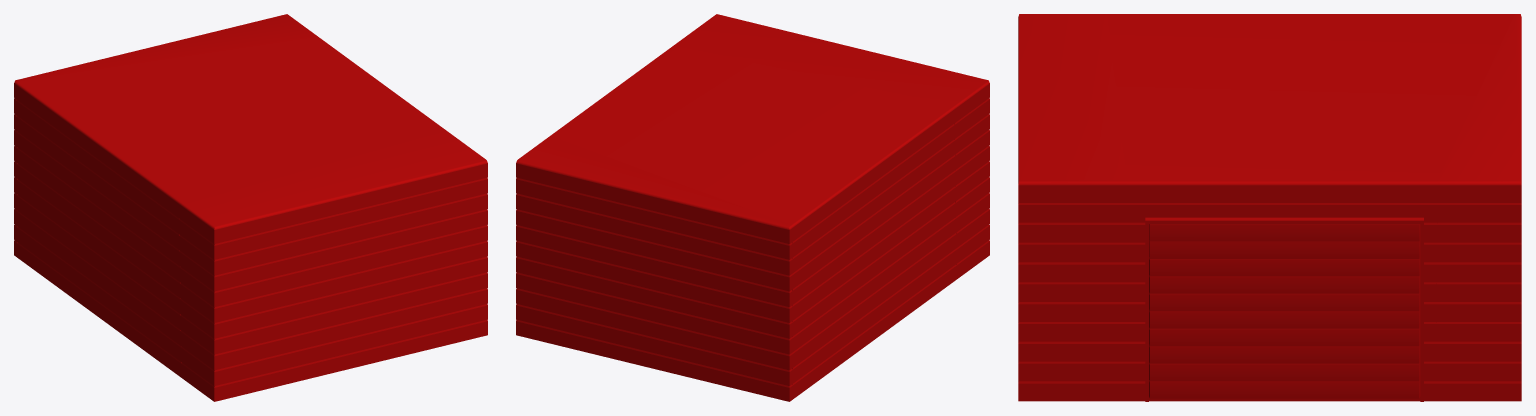
File: garage.fbx
3 views of the same model, side by side, from view 1: azimuth 30°, elevation 25°; view 2: azimuth 150°, elevation 25°; view 3: azimuth 270°, elevation 25° (orthographic). The views are drawn at different scales.
Parts seen in each view (by area): view 1: garage_door_piece, garage_piece, garage_piece1; view 2: garage_door_piece, garage_piece1, garage_piece; view 3: garage_door_piece, garage_piece, garage_piece1.
Part boxes in pixels (bbox=[...]): garage_door_piece: bbox=[16, 38, 443, 377]; garage_piece: bbox=[179, 129, 487, 401]; garage_piece1: bbox=[14, 14, 319, 257]; garage_door_piece: bbox=[550, 45, 956, 398]; garage_piece1: bbox=[516, 136, 792, 401]; garage_piece: bbox=[674, 14, 989, 278]; garage_door_piece: bbox=[1107, 14, 1514, 401]; garage_piece: bbox=[1018, 14, 1126, 401]; garage_piece1: bbox=[1435, 14, 1521, 401].
Bounding box in the file's own units: 4.7 × 2.82 × 5.86.
